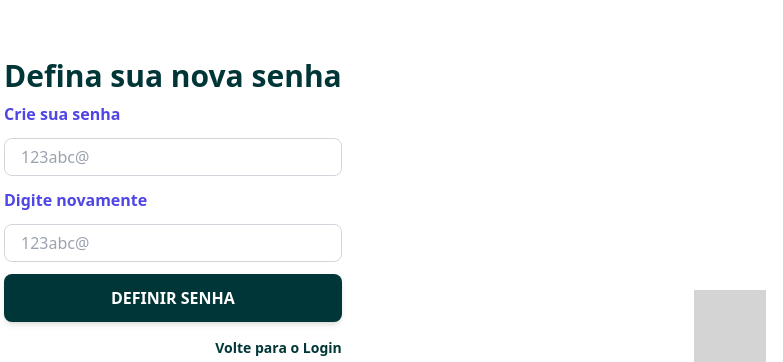
it: ResetPassword Component › mostra erro se não houver email ou código
The image size is (783, 362).
Type "123456" into the 1st password field with placeholder "123abc@" at (173, 157), box [5,139,341,175]
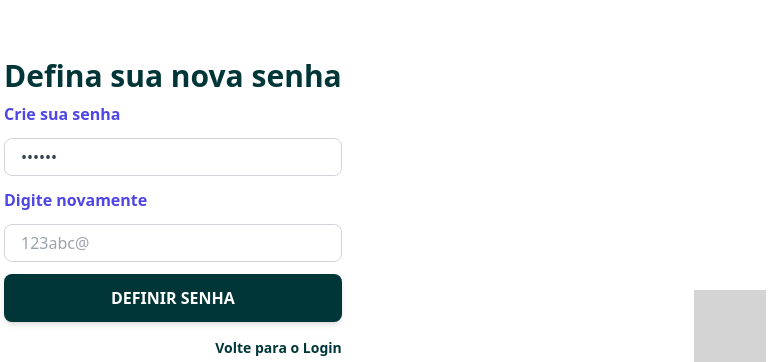
Type "123456" into the password field with placeholder "123abc@" at (173, 243), box [5,225,341,261]
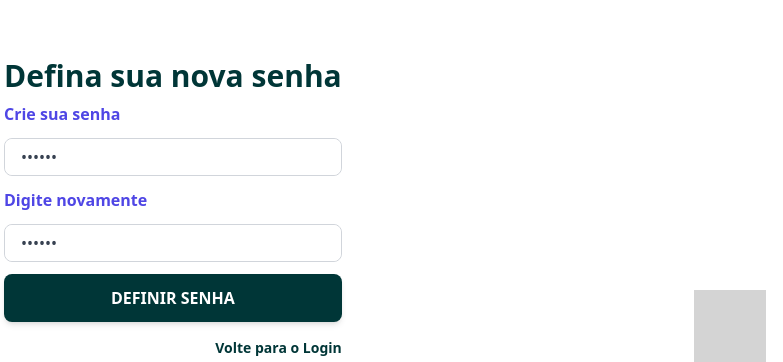
Click the button "DEFINIR SENHA" at (173, 298), box [4,274,342,322]
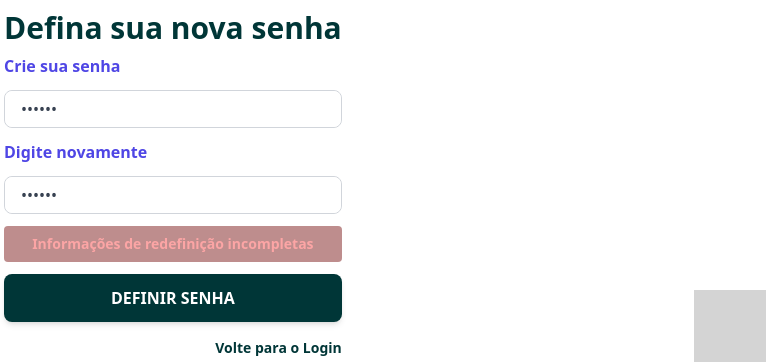
Expected: the text "Informações de redefinição incompletas" is shown, [4,226,342,262]
